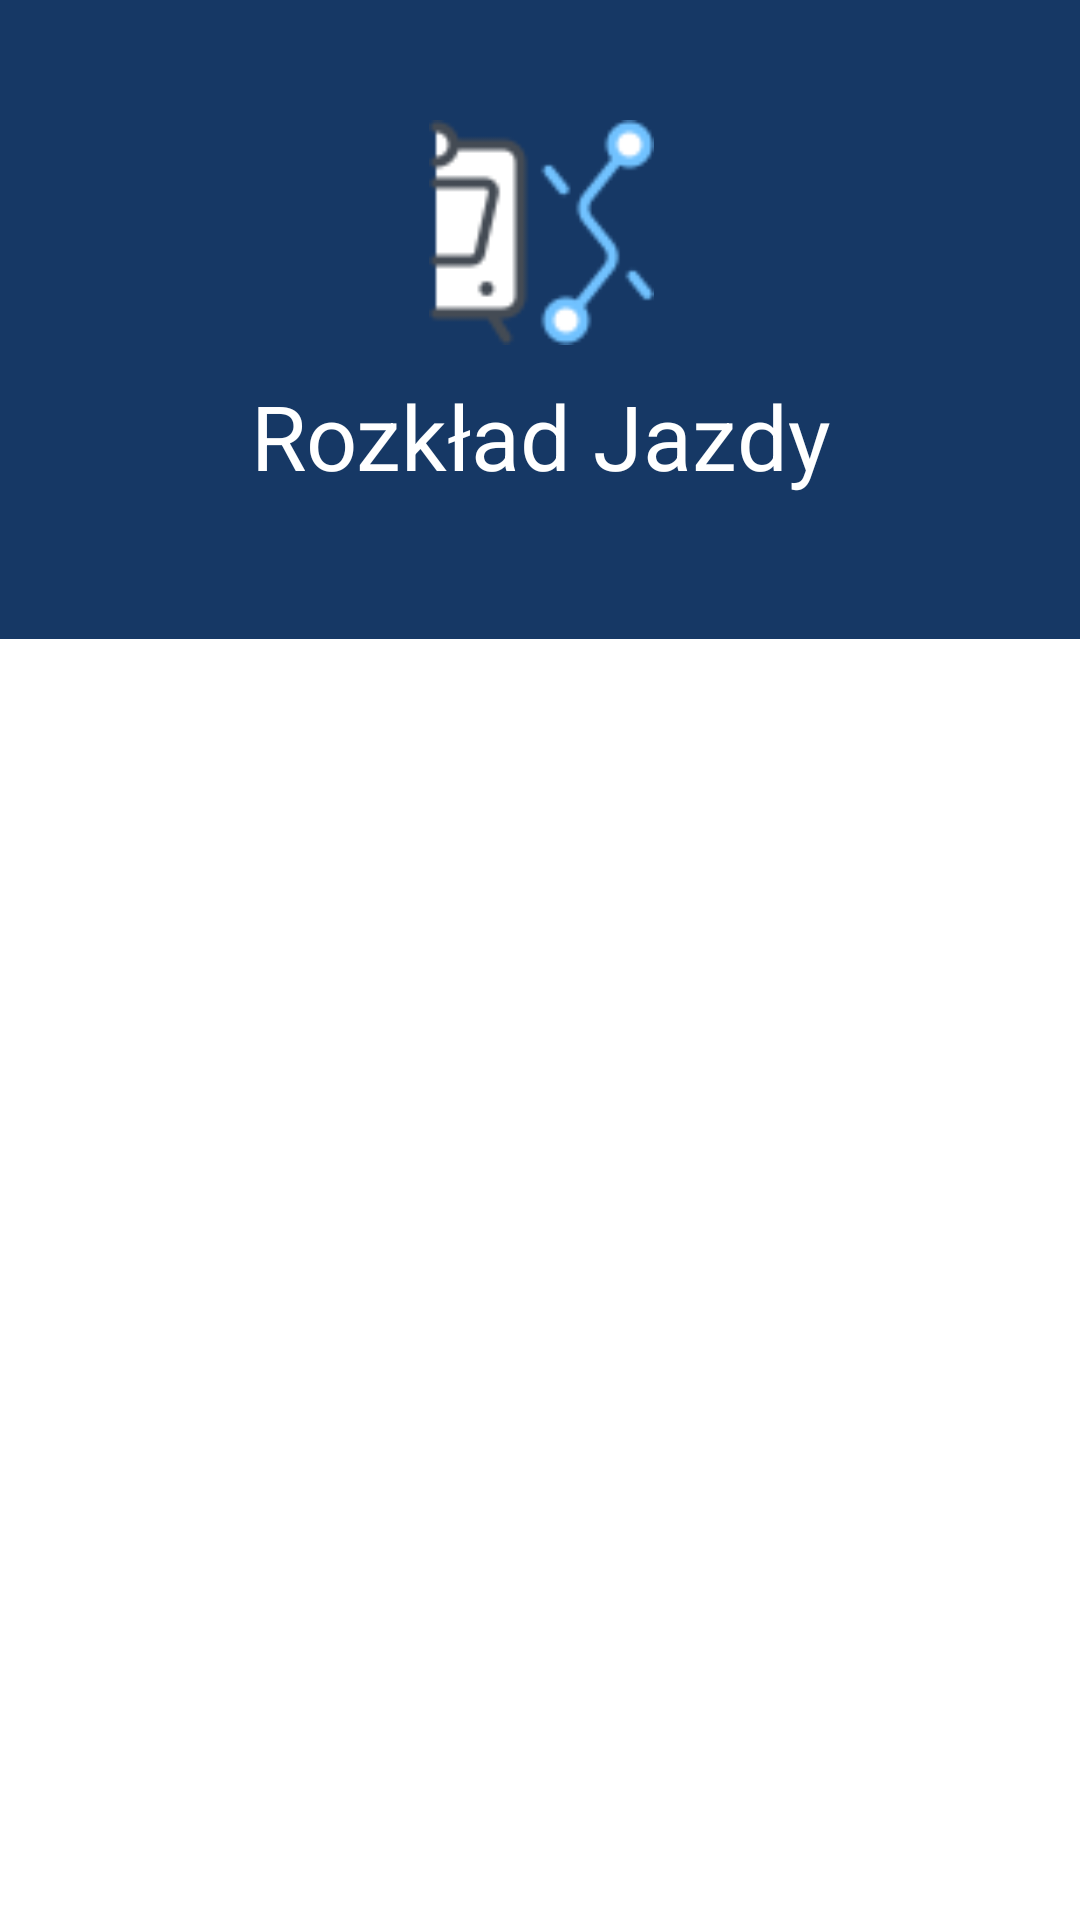

Where icons sit on this 1080px x 1920px app screen, as (x1, y1, x2, y2):
train route: (432, 120, 654, 345)
